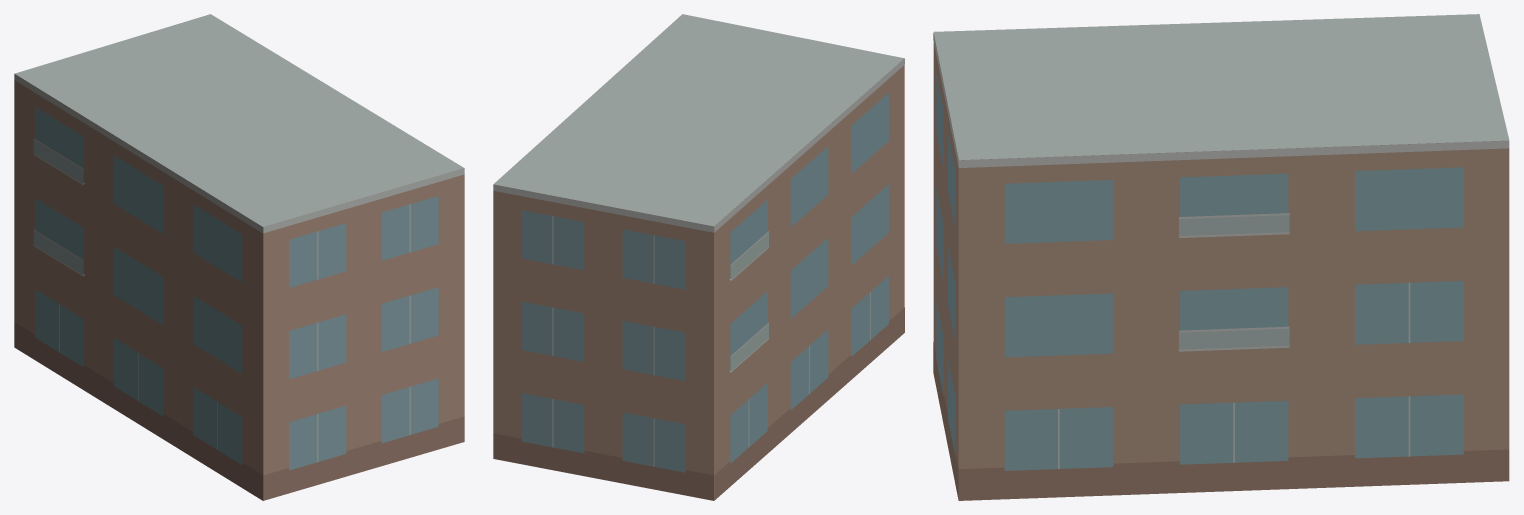
The model's file is survey-upis-32701381.glb.
The picture shows the model from 3 angles, left to right: view 1: azimuth 30°, elevation 25°; view 2: azimuth 150°, elevation 25°; view 3: azimuth 270°, elevation 25°; orthographic projection. The views are drawn at different scales.
Parts seen in each view (by area): view 1: survey-upis-32701381.tmp; view 2: survey-upis-32701381.tmp; view 3: survey-upis-32701381.tmp.
Boxes of the visible parts, x1,y1,x2,y2 form: survey-upis-32701381.tmp: (14, 14, 464, 500); survey-upis-32701381.tmp: (493, 14, 904, 500); survey-upis-32701381.tmp: (933, 14, 1509, 500).
Bounding box in the file's own units: 9.67 × 10.5 × 16.1.
